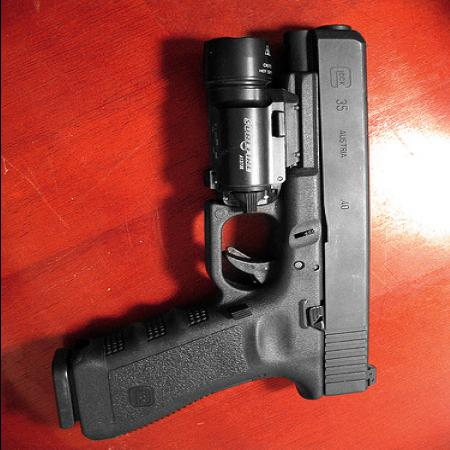Pistol: (54, 22, 379, 436)
